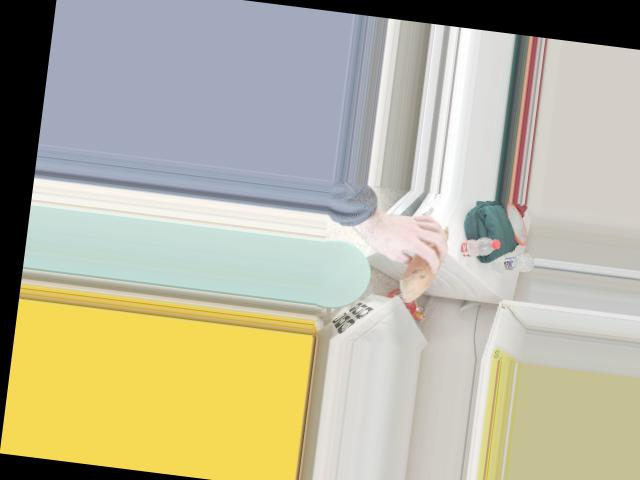sweet_potato: (405, 219, 449, 299)
